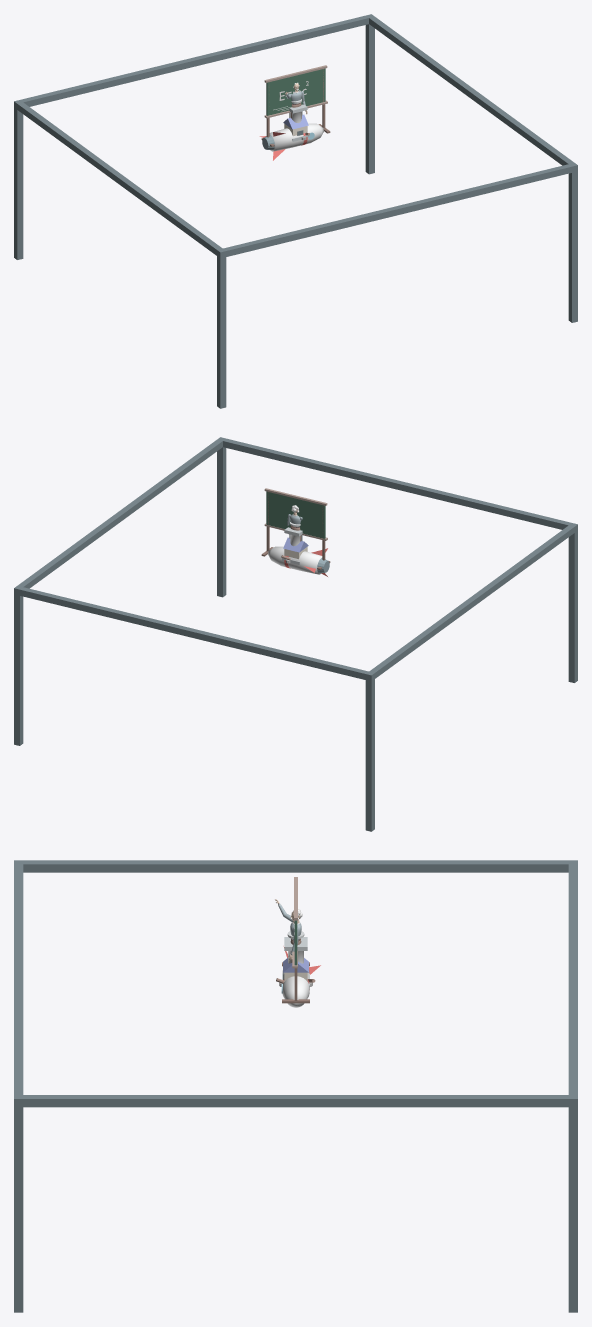
Rendered from einstein.glb.
The picture shows the model from 3 angles, top to bottom: view 1: azimuth 30°, elevation 25°; view 2: azimuth 150°, elevation 25°; view 3: azimuth 270°, elevation 25°; orthographic projection. The views are drawn at different scales.
Parts seen in each view (by area): view 1: efr_rim0, efr_rim1, efr_rim2, efr_rim3, eb_board, efr_leg0, efr_leg1, efr_leg3, efr_leg2, es_body; view 2: efr_rim1, efr_rim0, efr_rim2, efr_rim3, eb_board, efr_leg3, efr_leg2, efr_leg0, efr_leg1, es_body; view 3: efr_rim3, efr_rim2, efr_rim1, efr_rim0, efr_leg1, efr_leg2, es_body.
Boxes of the visible parts, bbox=[...] form: efr_rim0: bbox=[217, 164, 577, 258]; efr_rim1: bbox=[14, 14, 374, 108]; efr_rim2: bbox=[16, 102, 223, 255]; efr_rim3: bbox=[369, 15, 575, 165]; eb_board: bbox=[266, 68, 325, 115]; efr_leg0: bbox=[217, 253, 226, 408]; efr_leg1: bbox=[568, 168, 577, 322]; efr_leg3: bbox=[14, 104, 23, 259]; efr_leg2: bbox=[365, 24, 374, 174]; es_body: bbox=[269, 123, 323, 151]; efr_rim1: bbox=[14, 587, 374, 681]; efr_rim0: bbox=[217, 437, 577, 531]; efr_rim2: bbox=[368, 525, 575, 679]; efr_rim3: bbox=[16, 439, 222, 588]; eb_board: bbox=[266, 491, 325, 538]; efr_leg3: bbox=[365, 676, 374, 831]; efr_leg2: bbox=[14, 591, 23, 745]; efr_leg0: bbox=[568, 527, 577, 682]; efr_leg1: bbox=[217, 447, 226, 597]; es_body: bbox=[268, 546, 322, 574]; efr_rim3: bbox=[19, 1095, 573, 1107]; efr_rim2: bbox=[18, 860, 573, 872]; efr_rim1: bbox=[568, 860, 577, 1106]; efr_rim0: bbox=[14, 860, 23, 1102]; efr_leg1: bbox=[14, 1103, 23, 1312]; efr_leg2: bbox=[568, 1103, 577, 1312]; es_body: bbox=[282, 970, 309, 1007].
Bounding box in the file's own units: 12.2 × 7.06 × 12.2.
